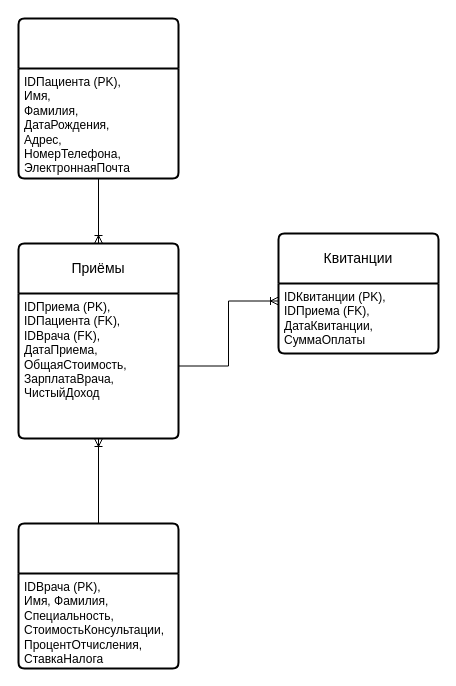
The diagram is 456 pixels wide and 686 high, and some of its shapes have lost their labels. The shapes that lost their labels are listed below. From the top down, each one's box as (x1, y1, x2, y2) in pixels, then its label:
(17, 17, 179, 179): Пациенты
(17, 522, 179, 669): Врачи
